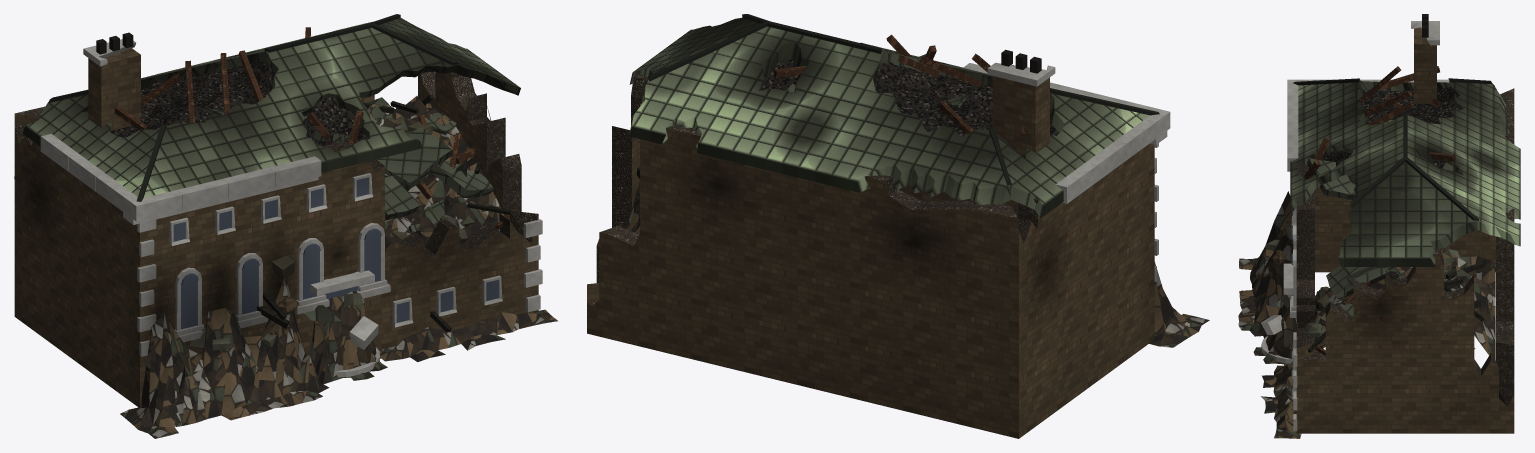
Rendered from CreBuild08a.glb.
The picture shows the model from 3 angles, left to right: view 1: azimuth 30°, elevation 25°; view 2: azimuth 150°, elevation 25°; view 3: azimuth 270°, elevation 25°; orthographic projection. The views are drawn at different scales.
Parts seen in each view (by area): view 1: CreBuild08a_wall; view 2: CreBuild08a_wall; view 3: CreBuild08a_wall.
Boxes of the visible parts, box(x1,y1,x2,y2) form: CreBuild08a_wall: box(14, 14, 558, 438); CreBuild08a_wall: box(587, 14, 1209, 438); CreBuild08a_wall: box(1238, 14, 1520, 438).
Bounding box in the file's own units: 14.04 × 9.59 × 9.22.
16 materials, 13 textured.
